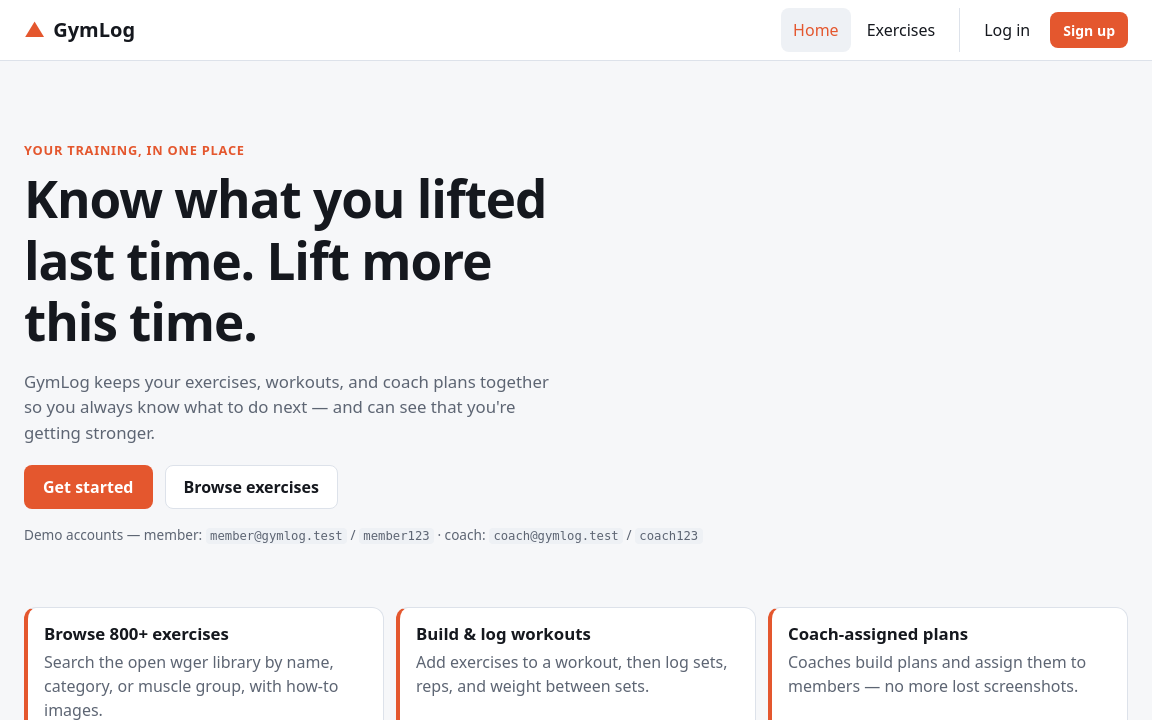
Routing › navigates between pages using navbar links
The image size is (1152, 720).
Click the link "Exercises".
click(901, 30)  # box top-left (867, 19), bottom-right (935, 41)
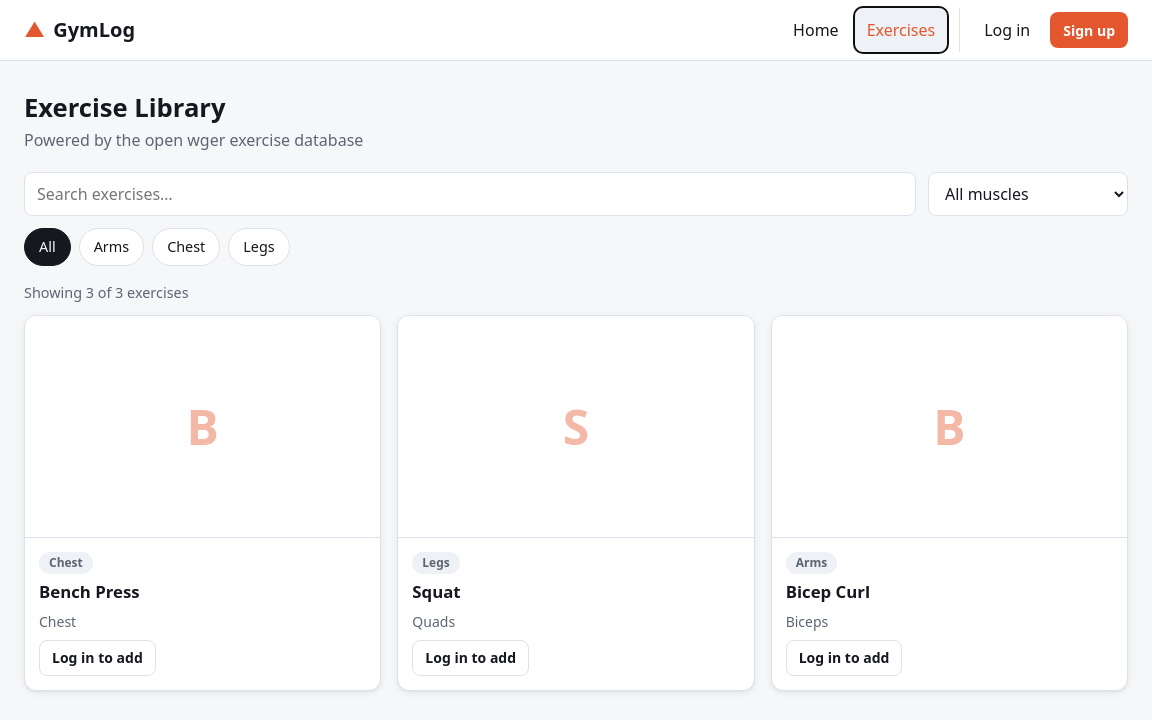
Check: the heading "Exercise Library" is shown, box top-left (24, 90), bottom-right (226, 125)
